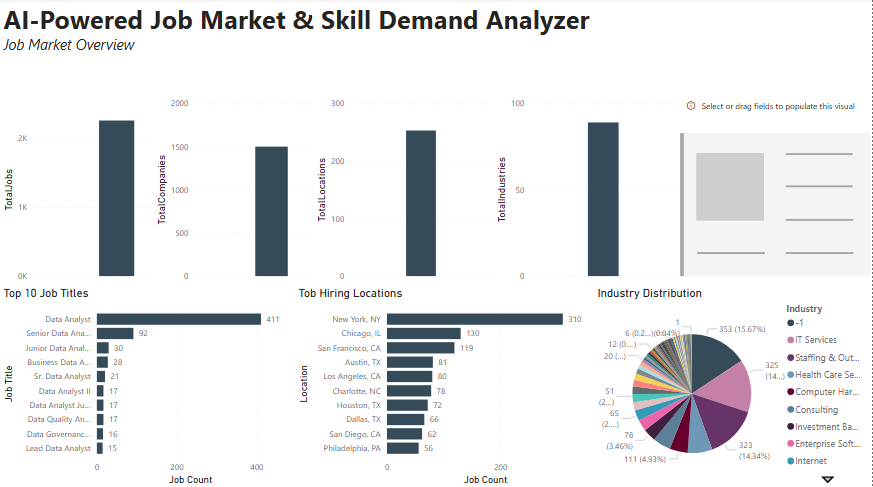

This screenshot's page, from the dashboard's own definition file:
{"tool":"powerbi","page":{"name":"Page 1","canvas":[1280,720],"ordinal":0},"visuals":[{"type":"cardVisual","box":[10,0,280,280],"z":0},{"type":"clusteredColumnChart","fields":{"Y":["Sheet1.TotalJobs"]},"box":[0,0,300.7,300.7],"z":1000},{"type":"clusteredColumnChart","fields":{"Y":["Sheet1.TotalCompanies"]},"box":[216.6,0,294,301.1],"z":2000},{"type":"clusteredColumnChart","fields":{"Y":["Sheet1.TotalLocations"]},"box":[433.1,0,269.4,301.1],"z":3000},{"type":"clusteredColumnChart","fields":{"Y":["Sheet1.TotalIndustries"]},"box":[702.5,0,274.7,301.1],"z":4000},{"type":"clusteredBarChart","title":"Top 10 Job Titles","fields":{"Category":["Sheet1.Job Title"],"Y":["Sheet1.TotalJobs"]},"box":[0,301.1,433.1,419],"z":5000},{"type":"clusteredBarChart","title":"Tob Hiring Locations","fields":{"Category":["Sheet1.Location"],"Y":["Sheet1.TotalJobs"]},"box":[433.1,301.1,440.2,419],"z":6000},{"type":"pieChart","title":"Industry Distribution","fields":{"Category":["Sheet1.Industry"],"Y":["Sheet1.TotalJobs"]},"box":[873.3,301.1,406.7,419],"z":7000}]}

Visuals, with their boxes in screenshot pixels (x1, y1, x2, y2), scaled from the page's 1280x720 canvas onto the 873x487 screenshot:
cardVisual: rect(7, 0, 198, 189)
clusteredColumnChart - Sheet1.TotalJobs: rect(0, 0, 205, 203)
clusteredColumnChart - Sheet1.TotalCompanies: rect(148, 0, 348, 204)
clusteredColumnChart - Sheet1.TotalLocations: rect(295, 0, 479, 204)
clusteredColumnChart - Sheet1.TotalIndustries: rect(479, 0, 666, 204)
"Top 10 Job Titles" clusteredBarChart: rect(0, 204, 295, 486)
"Tob Hiring Locations" clusteredBarChart: rect(295, 204, 596, 486)
"Industry Distribution" pieChart: rect(596, 204, 872, 486)
